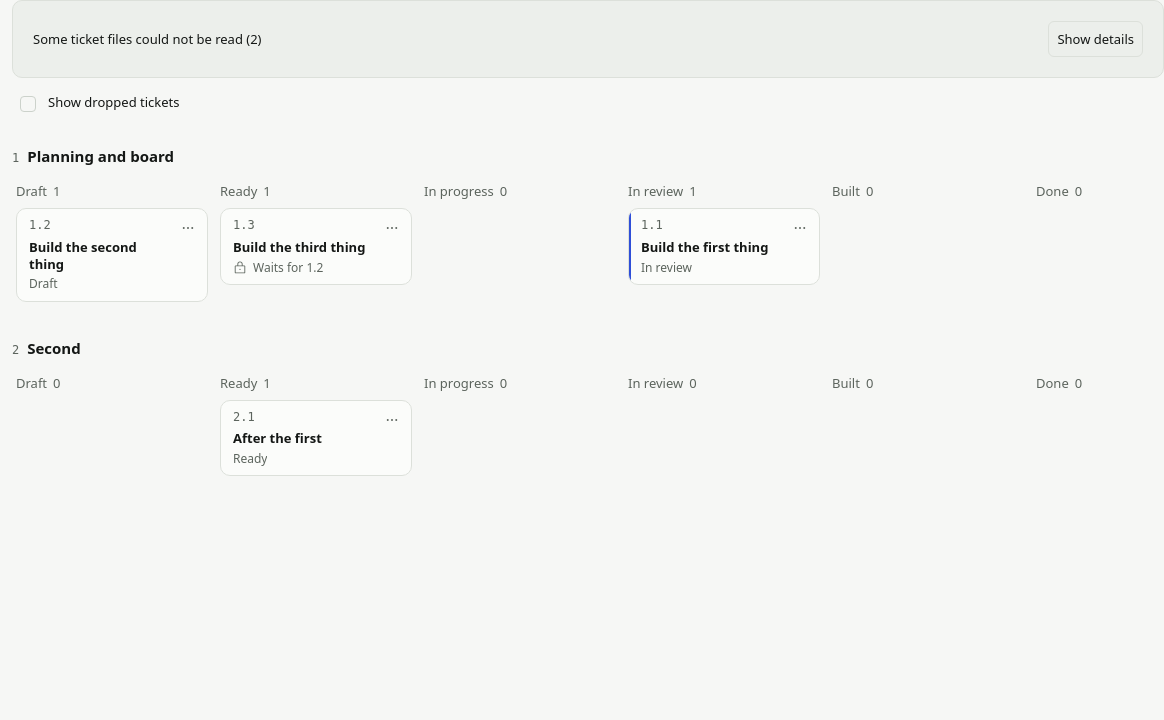
it: Board (story 4.9) › what couldn’t be read is one line with Show details; dropped tickets show only with the filter on
This screenshot has width=1164, height=720.
Expected: the text with test id "board-problems-line" reads "Some ticket files could not be read (2)", [33,30,262,48]
Click the button "Show details" at (1096, 39), box [1048,21,1143,57]
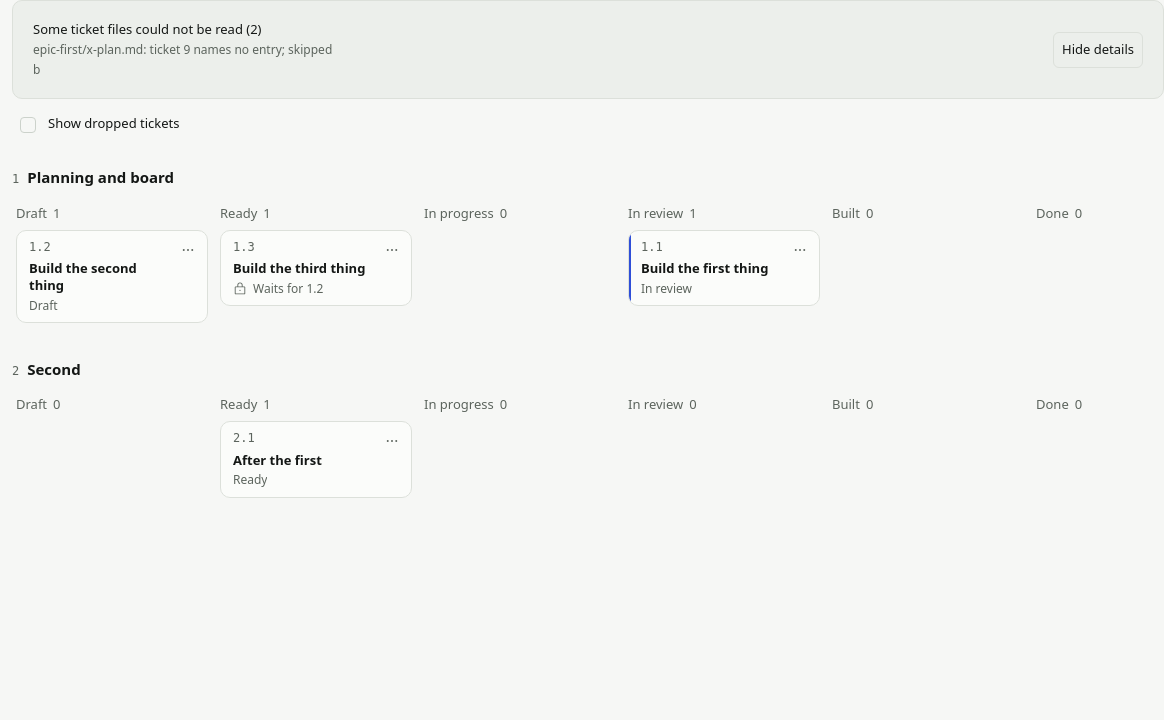
Expected: the list with test id "board-problems-list" shows "ticket 9 names no entry", [33,41,332,58]
Click the checkbox with test id "board-show-dropped" at (28, 125), box [20,117,36,133]
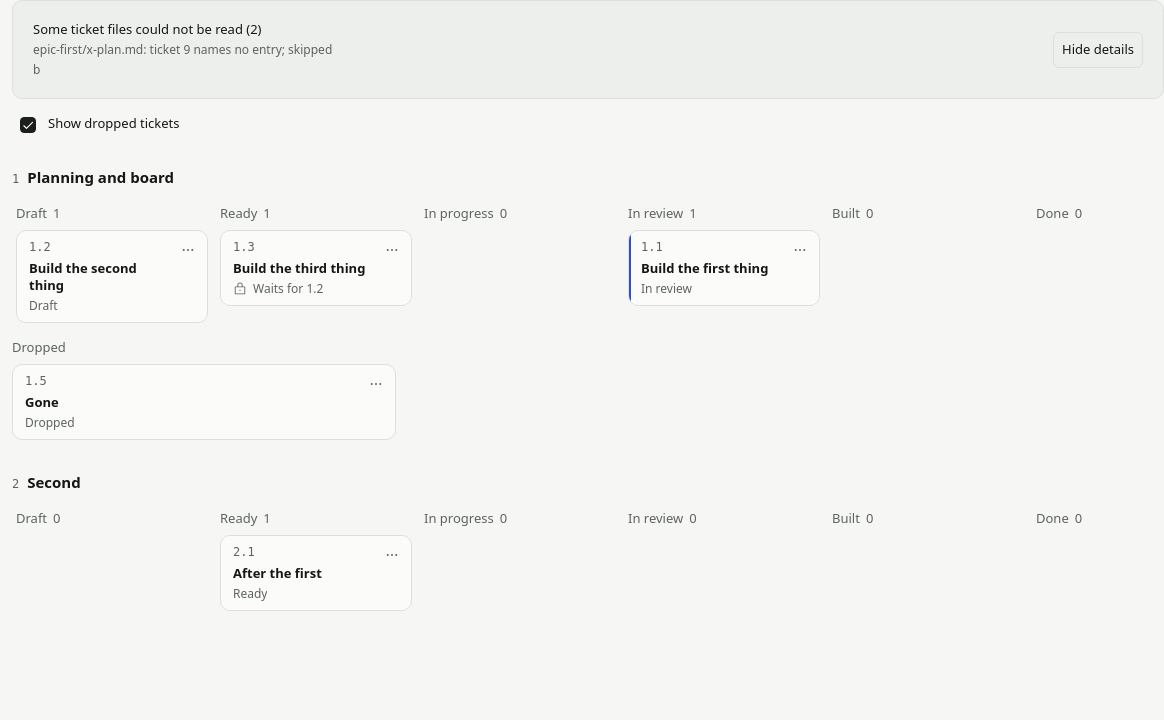
Expected: the element with test id "board-dropped" shows "Gone", [12,364,396,440]
